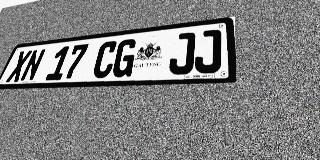1: (45, 46, 73, 80)
7: (61, 44, 89, 80)
C: (91, 40, 119, 78)
G: (110, 38, 138, 78)
J: (194, 29, 221, 74), (168, 32, 196, 75)
N: (19, 48, 46, 82)
X: (6, 50, 33, 82)
